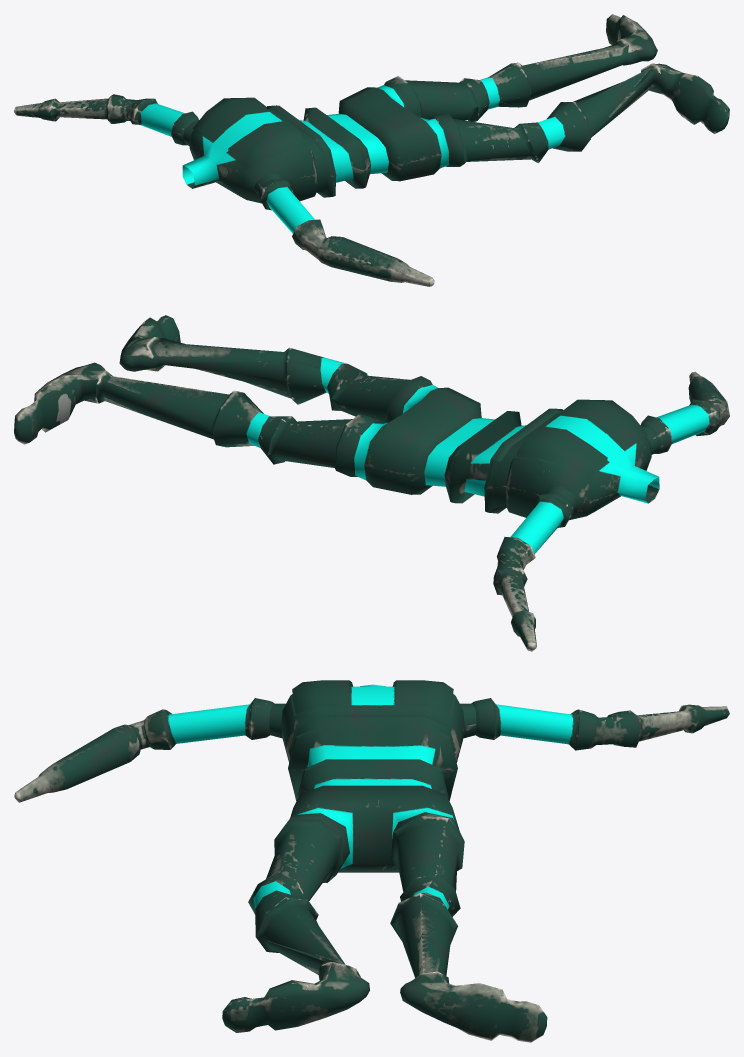
The model's file is SM_Robot_P3.fbx.
3 renders of one model, top to bottom at view 1: azimuth 30°, elevation 25°; view 2: azimuth 150°, elevation 25°; view 3: azimuth 270°, elevation 25°, orthographic. The views are drawn at different scales.
Visible parts, largest first — view 1: SM_Robot_P3; view 2: SM_Robot_P3; view 3: SM_Robot_P3.
Part boxes in pixels (x1,y1,x2,y2): SM_Robot_P3: [14, 14, 729, 286]; SM_Robot_P3: [14, 315, 729, 651]; SM_Robot_P3: [14, 680, 729, 1042].
Size of the model in its own units: 124 by 114 by 17.72.
1 material, 1 textured.
